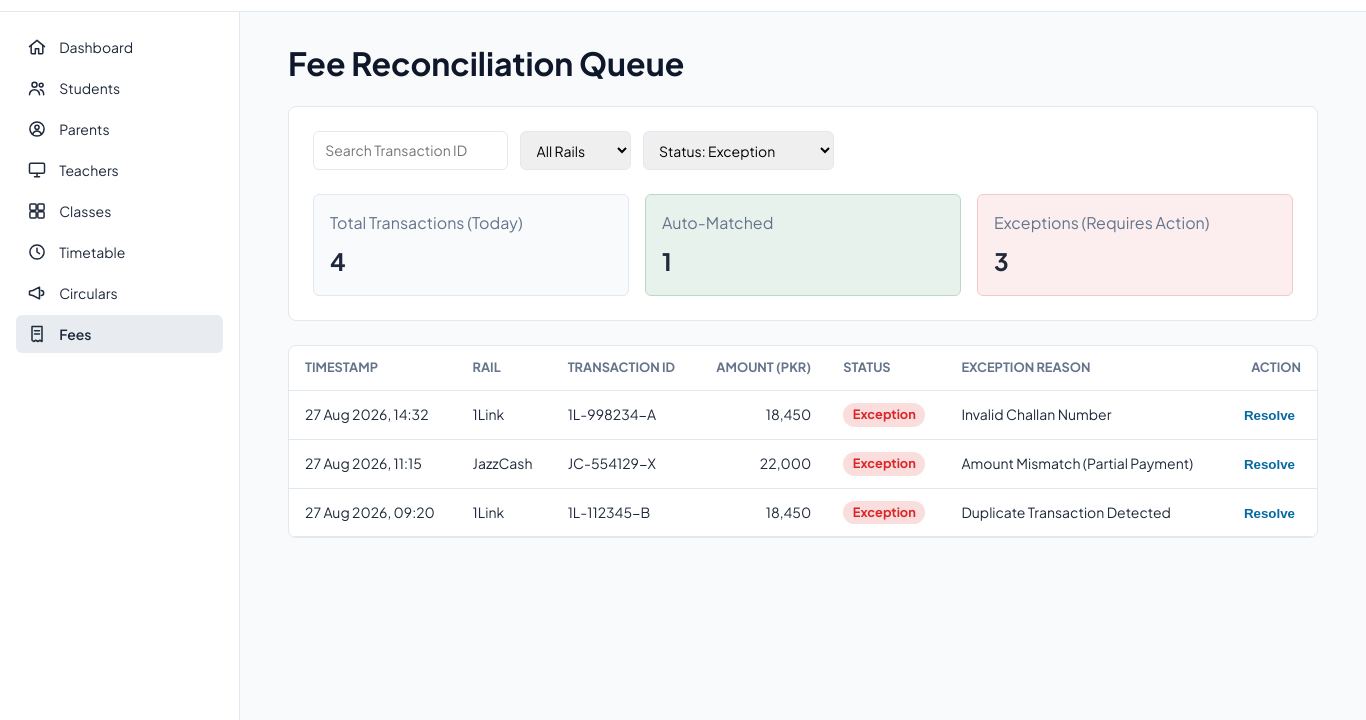
Test: FeesView › opens the resolve panel for an exception row, shows the suggested match, and resolves it
Click the button with test id "resolve-t1" at (1269, 416), box [1238,407,1301,424]
(page scrolled)
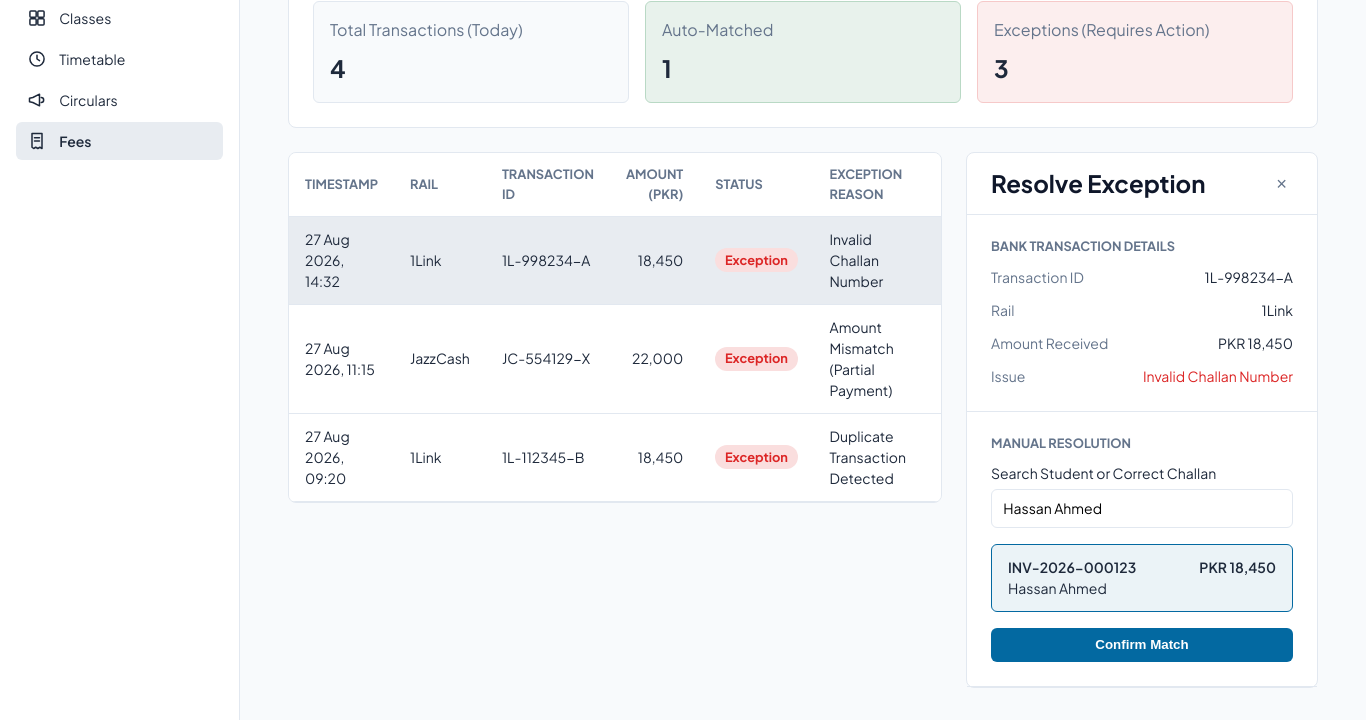
Check: the element with test id "resolve-panel" is shown, box [966,152,1318,688]
Check: the element with test id "suggestion-card" shows "INV-2026-000123", box [1008,558,1136,576]
Check: the element with test id "suggestion-card" shows "Hassan Ahmed", box [1008,579,1107,597]
Click the button with test id "confirm-resolution" at (1142, 645), box [991,628,1293,662]
(page scrolled)
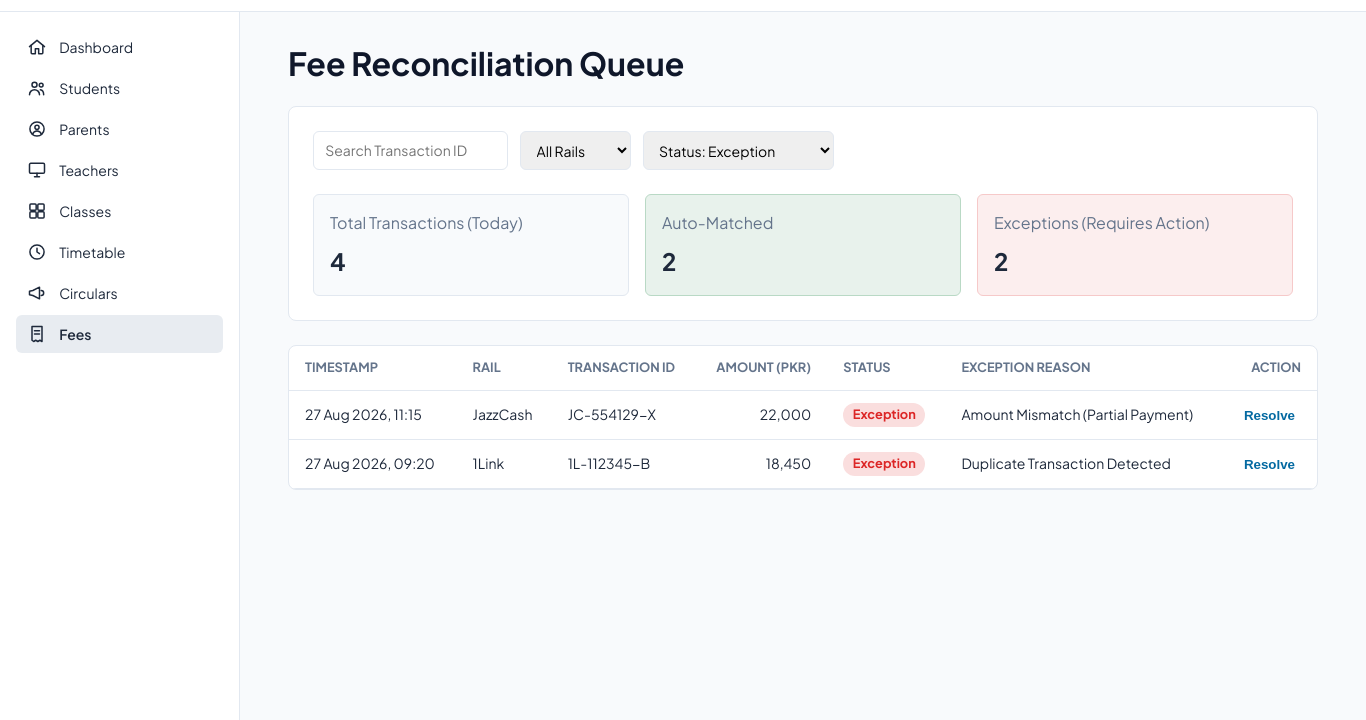
Select "Status: All" in the dropdown with test id "status-filter" at (738, 151), box [643,131,834,170]
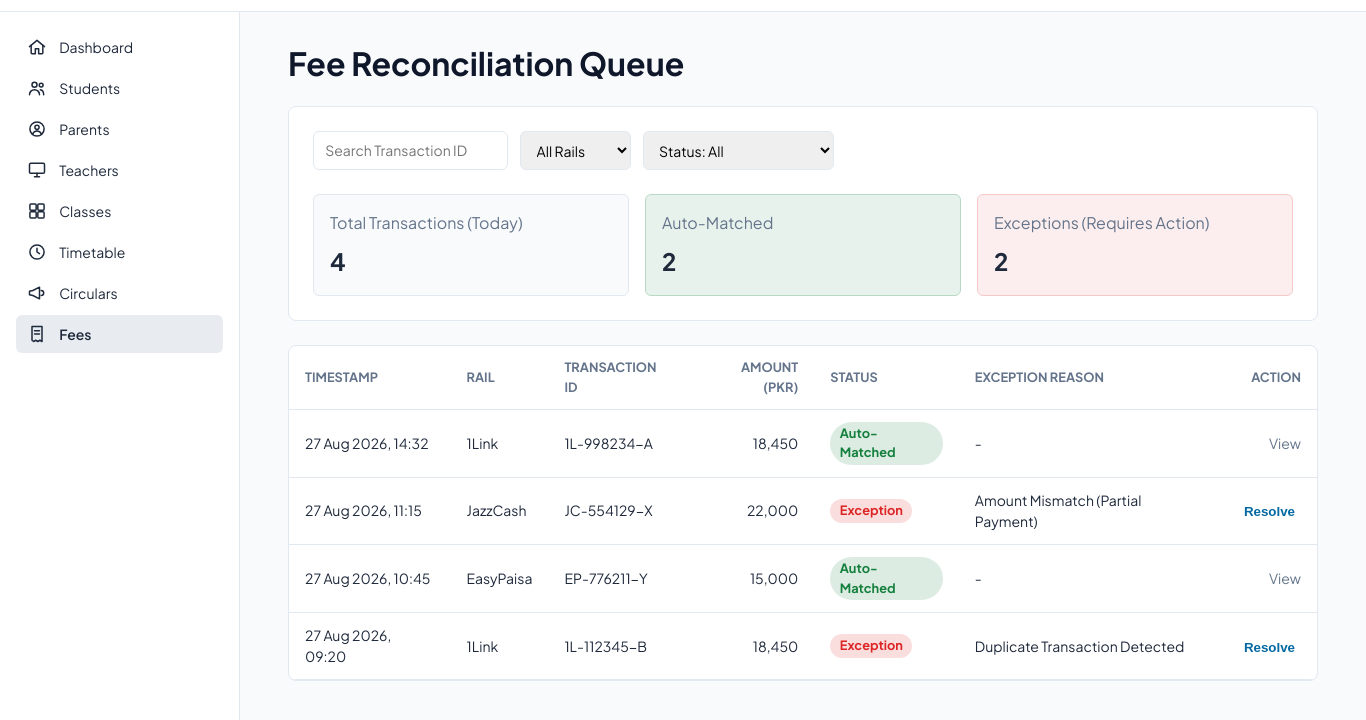
Check: the text with class "badge" in the row of "27 Aug 2026, 14:32" reads "Auto-Matched", box [840,425,896,460]
